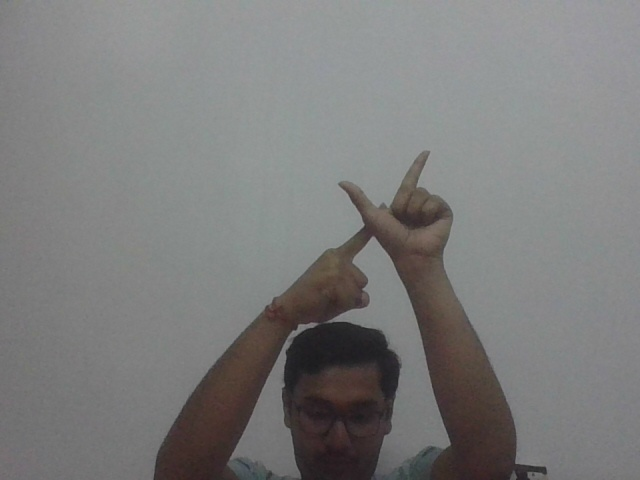Y: (314, 147, 454, 322)
